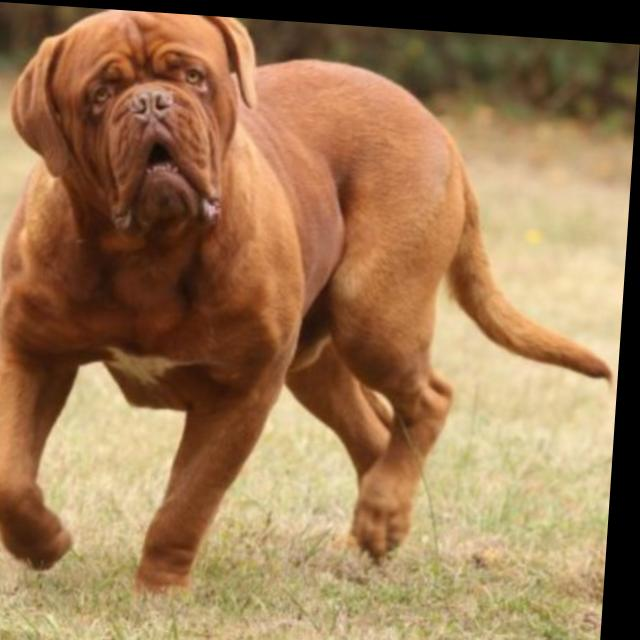dogue_de_bordeaux: (1, 3, 637, 619)
